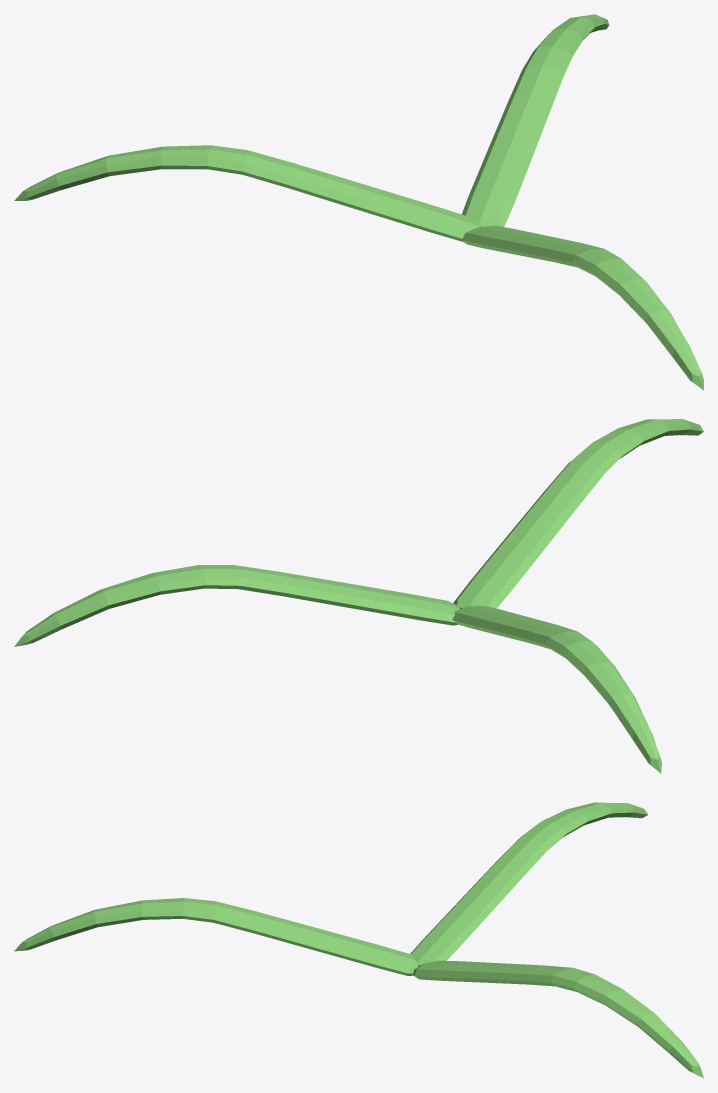
File: Plants.glb
3 views of the same model, one above another, from view 1: azimuth 30°, elevation 25°; view 2: azimuth 150°, elevation 25°; view 3: azimuth 270°, elevation 25° (orthographic). The views are drawn at different scales.
Parts seen in each view (by area): view 1: Plane.001, Plane, Plane.002; view 2: Plane, Plane.002, Plane.001; view 3: Plane.002, Plane.001, Plane.
Part boxes in pixels (x1,y1,x2,y2): Plane.001: (14,145,480,241); Plane: (461,14,609,226); Plane.002: (461,225,703,390); Plane: (14,565,460,646); Plane.002: (453,419,703,608); Plane.001: (452,606,661,773); Plane.002: (14,898,418,975); Plane.001: (410,802,648,966); Plane: (413,960,703,1078).
Size of the model in its own units: 2.74 by 0.3328 by 3.03.
